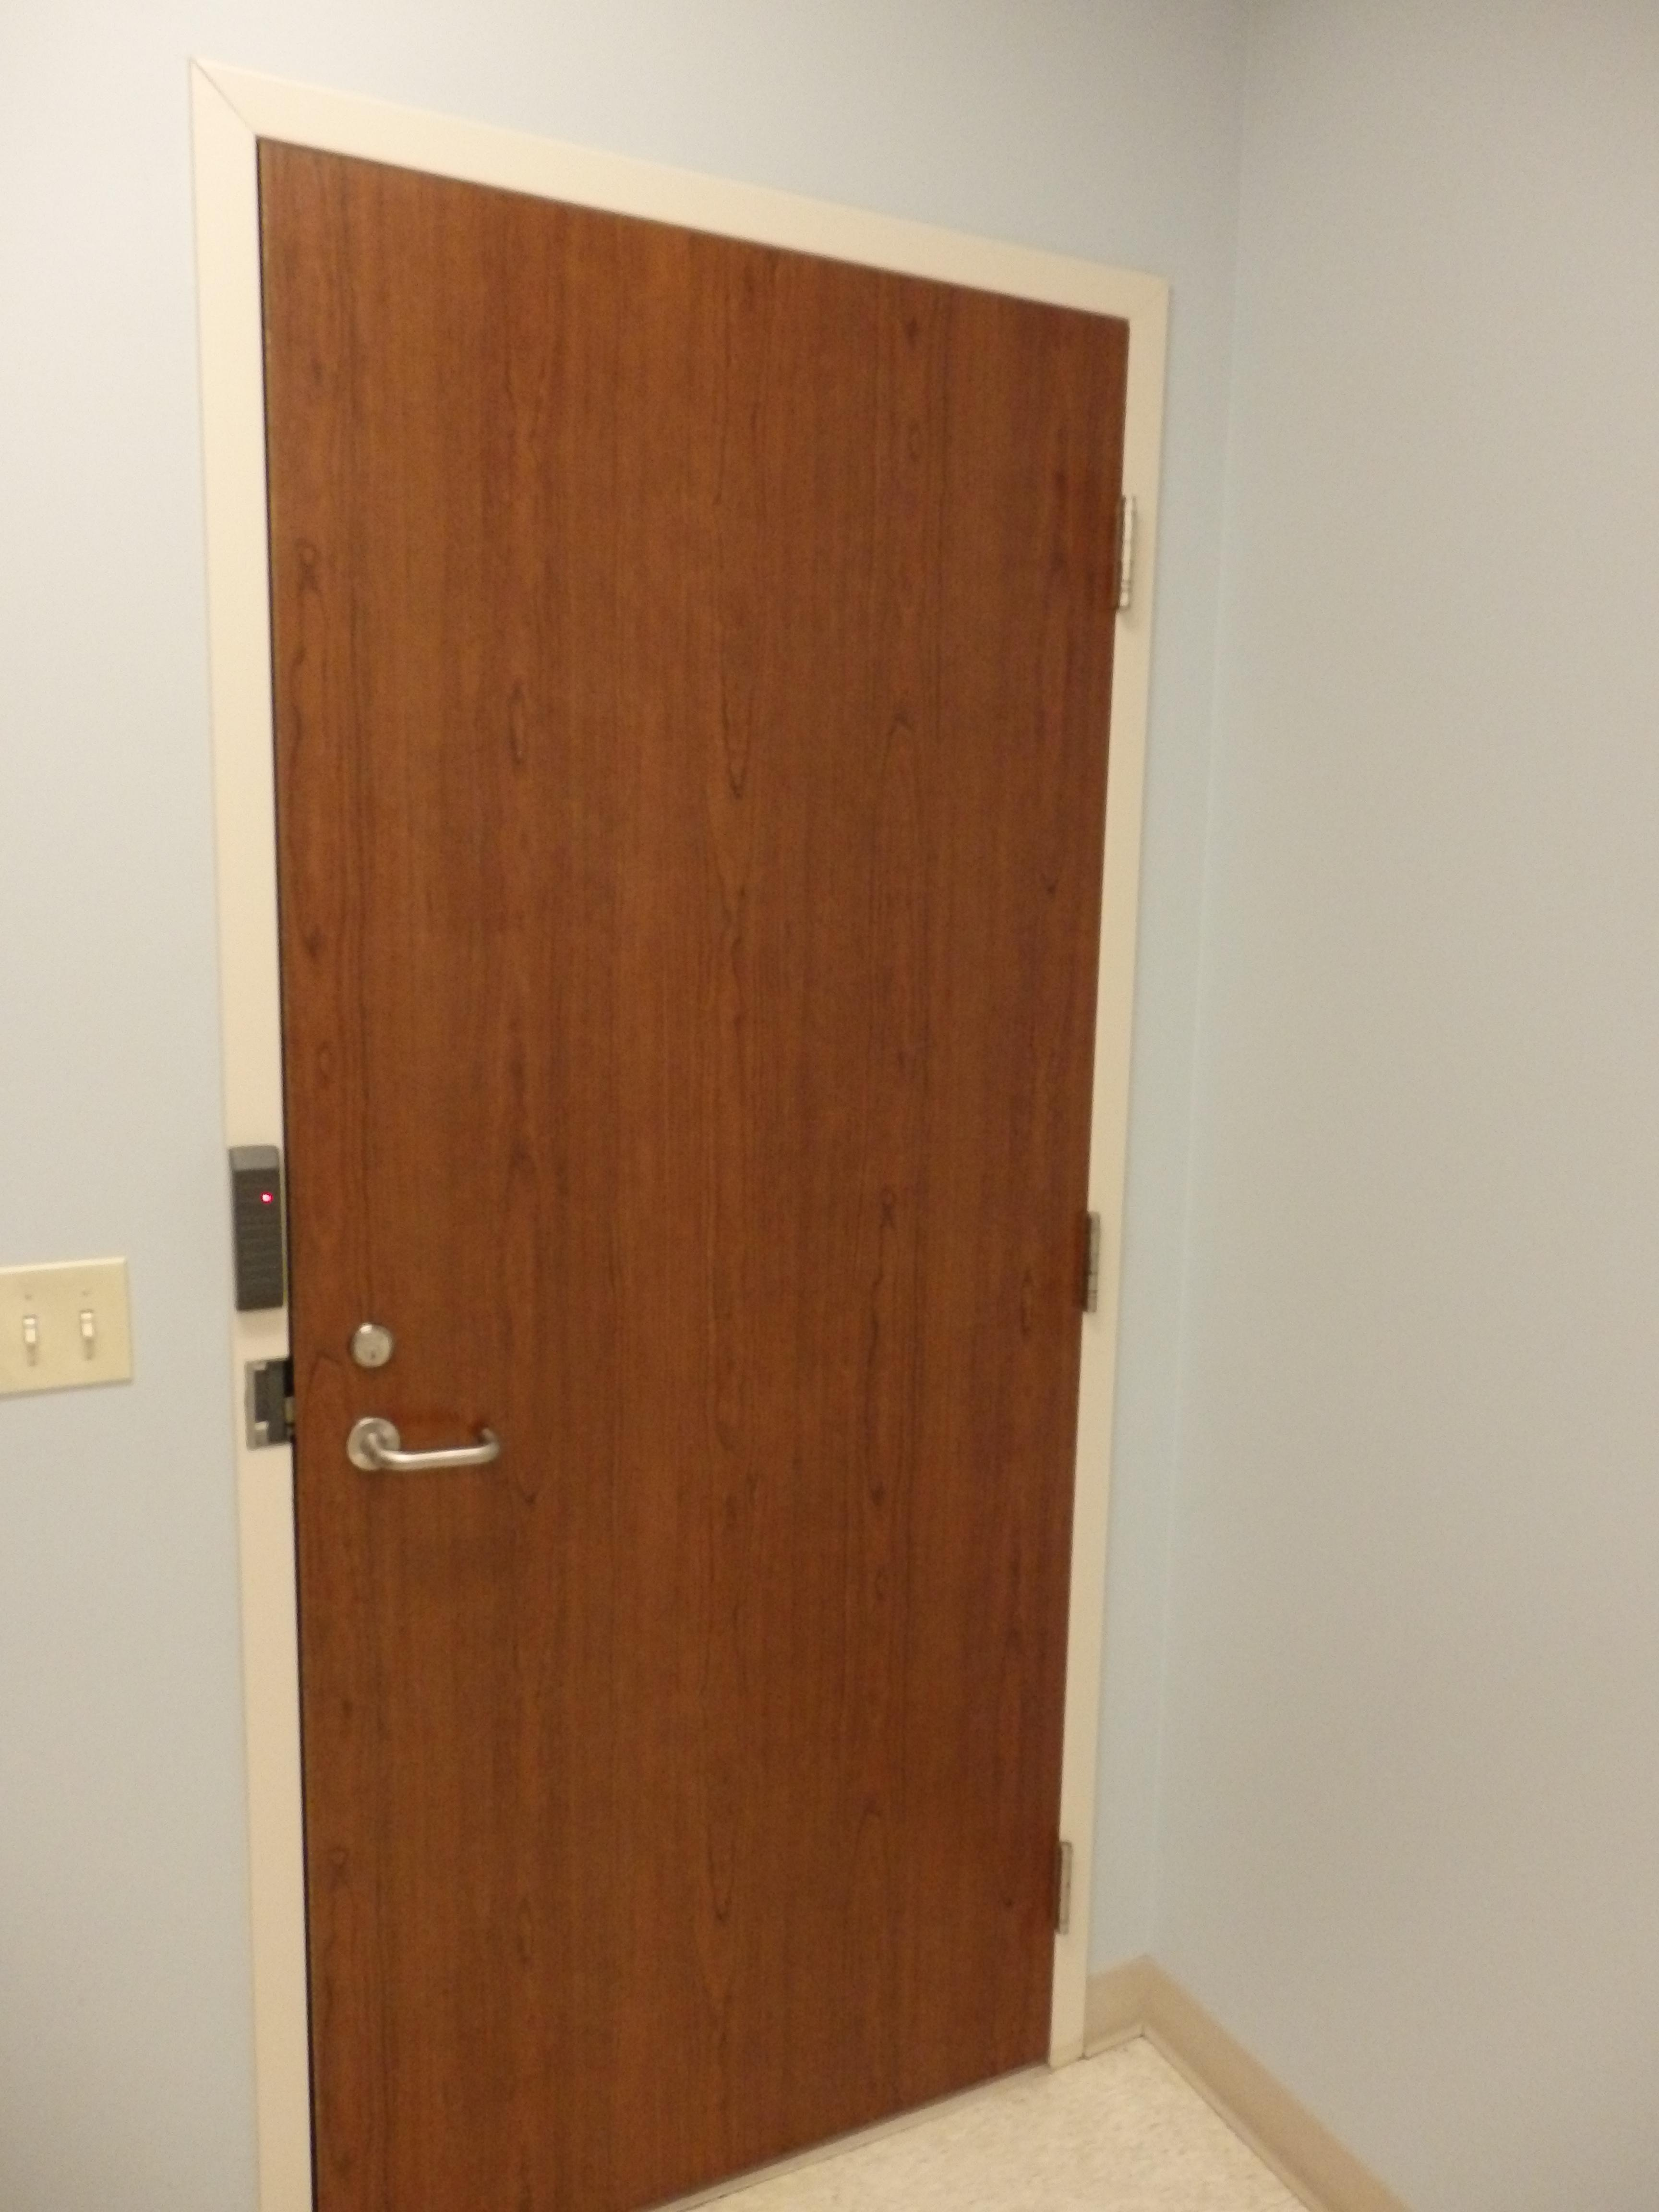door: (239, 124, 1091, 2189)
